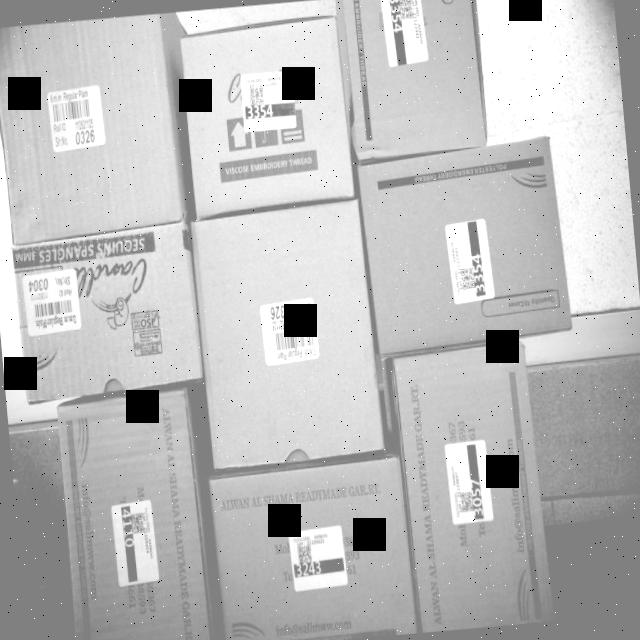box: (184, 192, 384, 472), (387, 330, 558, 632), (355, 136, 582, 356), (0, 12, 187, 241), (55, 388, 214, 640), (207, 450, 417, 640), (172, 14, 354, 211), (7, 230, 207, 400), (335, 0, 488, 167)
